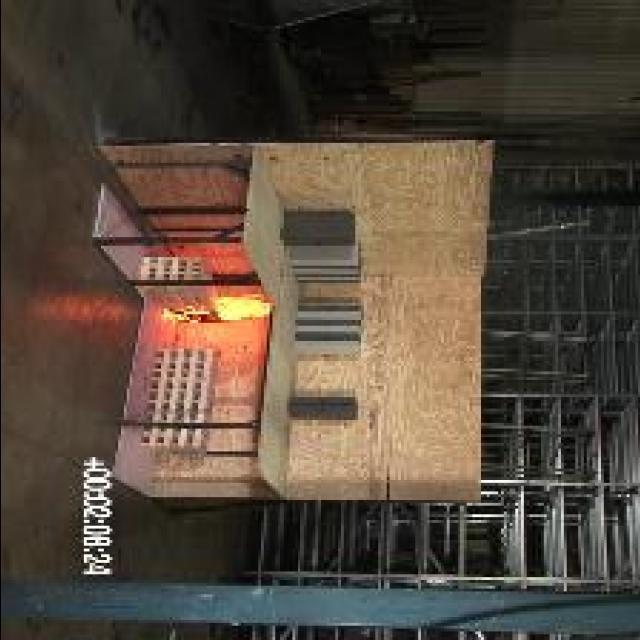Fire: (214, 296, 274, 322)
